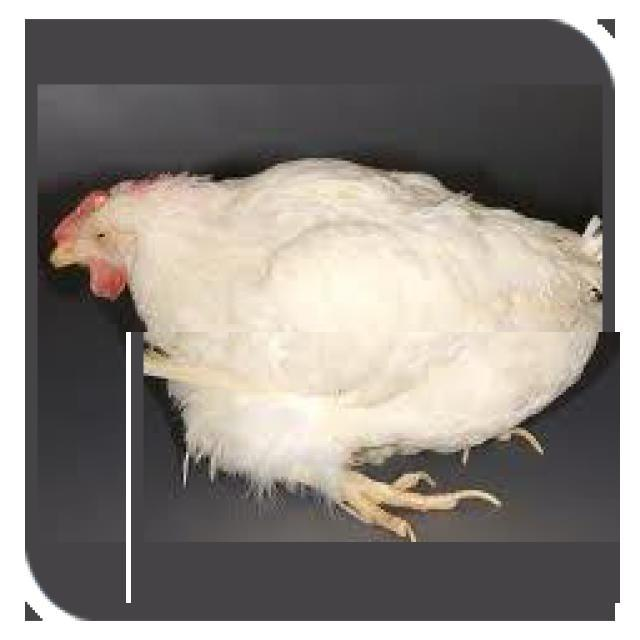AbNormal: (50, 158, 603, 543)
